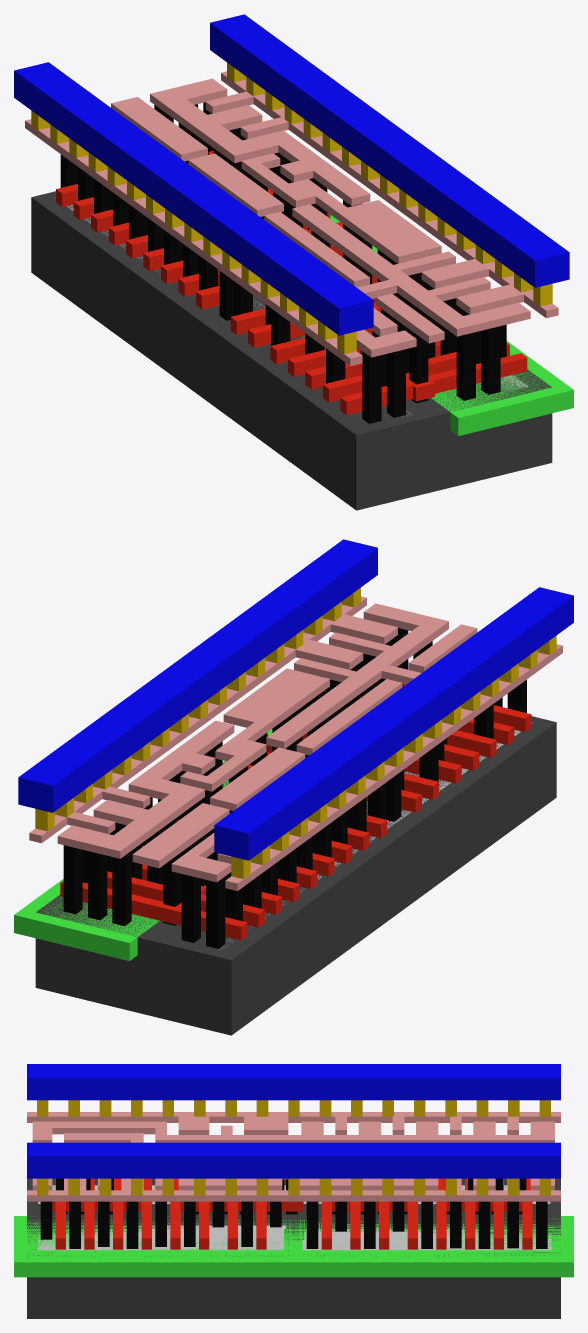
Rendered from sky130_fd_sc_hd__o31ai_4.obj.
3 views of the same model, one above another, from view 1: azimuth 30°, elevation 25°; view 2: azimuth 150°, elevation 25°; view 3: azimuth 270°, elevation 25° (orthographic). The views are drawn at different scales.
Visible parts, largest first — view 1: subs, metal1, li, licon, poly, mcon, nwell; view 2: subs, metal1, li, licon, poly, mcon, nwell; view 3: metal1, subs, li, nwell, poly, licon, mcon, tap.
Boxes of the visible parts, left/top/right/bottom form: subs: left=31, top=191, right=552, bottom=510; metal1: left=14, top=14, right=569, bottom=335; li: left=25, top=71, right=558, bottom=365; licon: left=60, top=102, right=506, bottom=423; poly: left=56, top=151, right=527, bottom=415; mcon: left=31, top=62, right=552, bottom=353; nwell: left=330, top=214, right=573, bottom=435; subs: left=35, top=716, right=556, bottom=1035; metal1: left=18, top=539, right=573, bottom=860; li: left=29, top=596, right=562, bottom=890; licon: left=63, top=628, right=526, bottom=948; poly: left=60, top=684, right=531, bottom=940; mcon: left=35, top=587, right=556, bottom=878; nwell: left=14, top=729, right=272, bottom=960; metal1: left=27, top=1064, right=560, bottom=1178; subs: left=27, top=1178, right=560, bottom=1318; li: left=27, top=1112, right=560, bottom=1201; nwell: left=14, top=1216, right=573, bottom=1277; poly: left=52, top=1178, right=532, bottom=1249; licon: left=40, top=1178, right=547, bottom=1248; mcon: left=37, top=1100, right=550, bottom=1195; tap: left=38, top=1224, right=551, bottom=1250.
Size of the model in its own units: 3.2 by 2.74 by 8.2.
